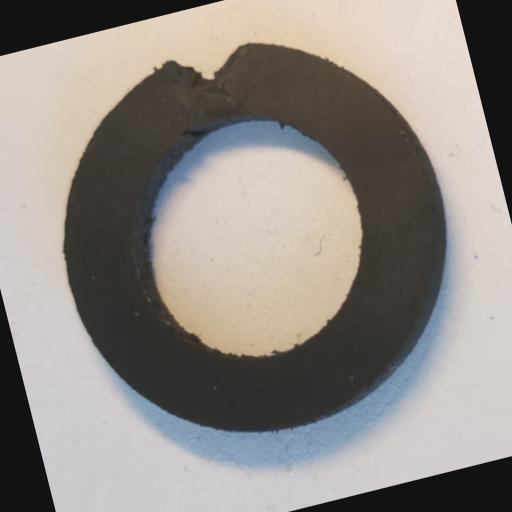defect: (166, 38, 261, 94)
